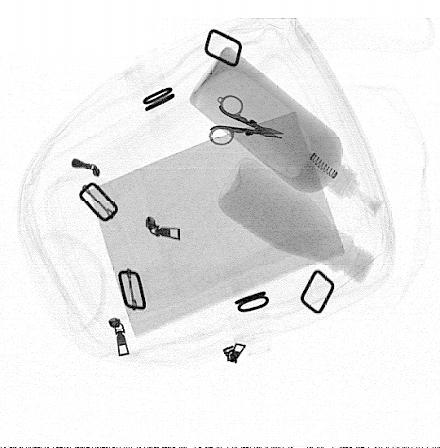Scissors: (208, 94, 286, 147)
